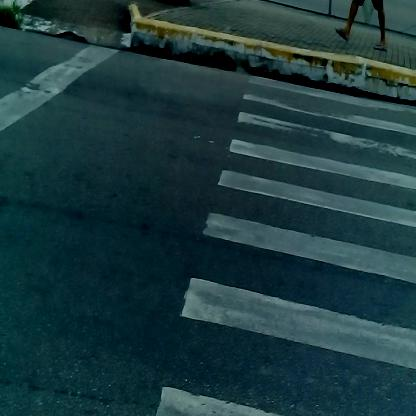crosswalk: (177, 57, 416, 416)
sidewalk: (119, 18, 415, 102)
